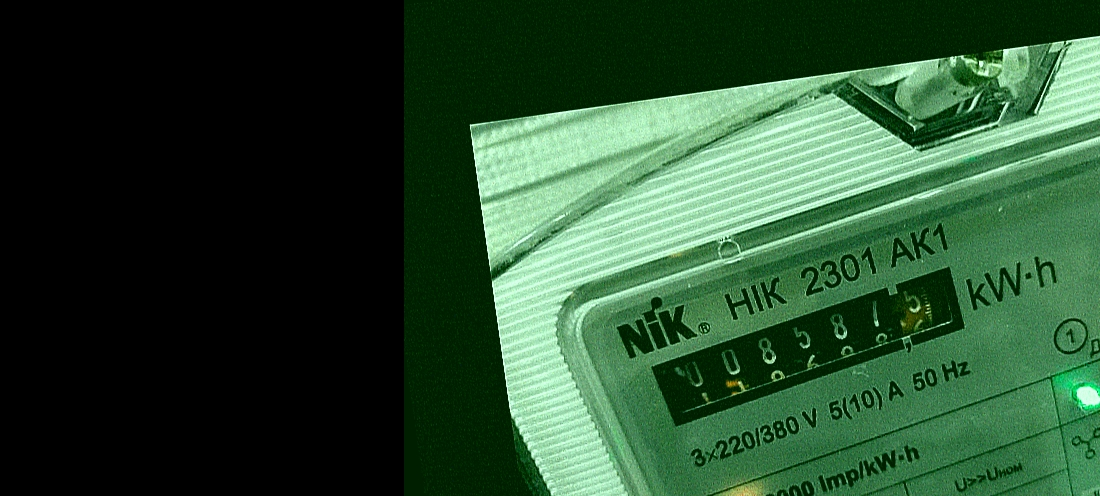0: (715, 341, 746, 378), (679, 354, 709, 389)
5: (789, 318, 816, 352), (899, 280, 925, 314)
6: (909, 315, 929, 334)
7: (861, 295, 888, 331)
8: (754, 332, 782, 367), (825, 307, 852, 343)
screen: (635, 261, 995, 430)
